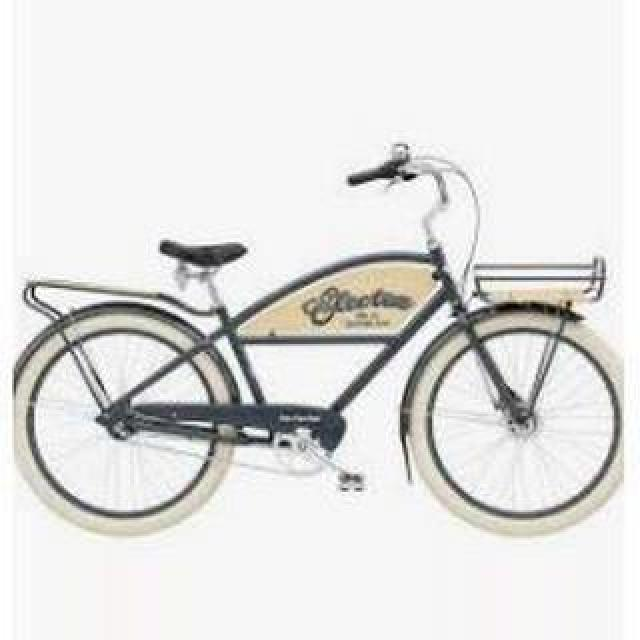Person: (10, 141, 624, 539)
